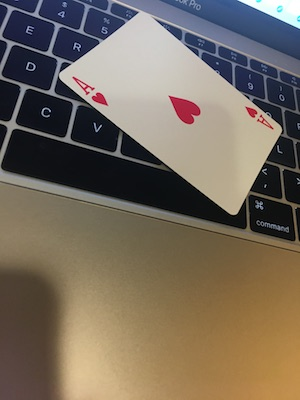AceOfHearts: (55, 9, 284, 209)
